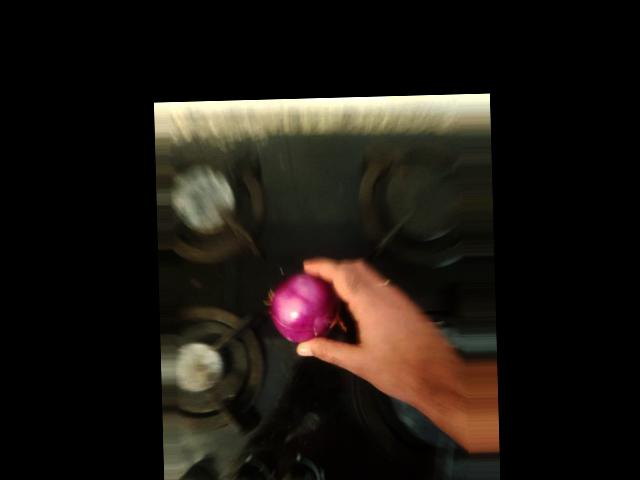onion: (201, 201, 292, 285)
